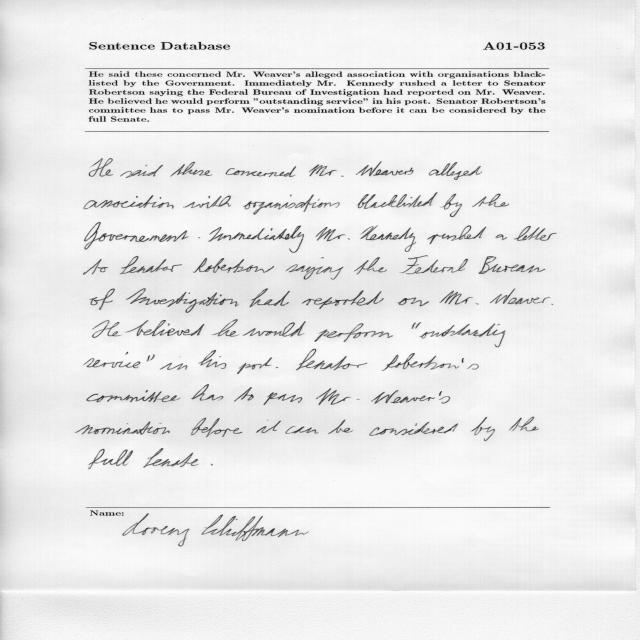word: (295, 193, 462, 218), (85, 222, 189, 250), (126, 289, 239, 313), (208, 225, 304, 253), (420, 324, 506, 348), (382, 353, 479, 371), (302, 290, 384, 309), (361, 225, 417, 252), (314, 323, 393, 342), (296, 349, 367, 370), (286, 257, 344, 280), (76, 421, 170, 435), (400, 256, 468, 275), (125, 320, 205, 336), (84, 195, 174, 209), (369, 422, 458, 436), (193, 258, 274, 273), (479, 256, 545, 274), (428, 225, 487, 244), (143, 448, 199, 468), (120, 256, 182, 274), (87, 390, 180, 402), (371, 390, 450, 404), (243, 195, 296, 215), (191, 418, 242, 438), (243, 321, 306, 337), (490, 289, 550, 305), (429, 162, 482, 180), (84, 352, 141, 368), (88, 449, 133, 469), (356, 161, 414, 176), (249, 289, 290, 308), (226, 166, 296, 177), (317, 388, 360, 405), (514, 226, 557, 241), (171, 162, 213, 177), (183, 196, 231, 209), (237, 358, 272, 375), (354, 257, 387, 275), (471, 417, 495, 441), (120, 165, 163, 178), (90, 288, 115, 310), (440, 291, 479, 305), (191, 384, 223, 401), (199, 350, 227, 369), (93, 320, 121, 338), (264, 392, 302, 405), (472, 194, 509, 207), (316, 227, 350, 241), (309, 164, 344, 177), (213, 320, 239, 337), (89, 159, 113, 177), (509, 417, 539, 431), (84, 259, 109, 275), (328, 419, 353, 434), (256, 420, 281, 433), (397, 298, 429, 307), (234, 387, 253, 402), (285, 426, 319, 434), (160, 363, 187, 370), (495, 234, 507, 240), (412, 322, 422, 329), (147, 355, 155, 362), (210, 464, 213, 466), (198, 238, 200, 239), (551, 304, 553, 305), (276, 367, 278, 368)
